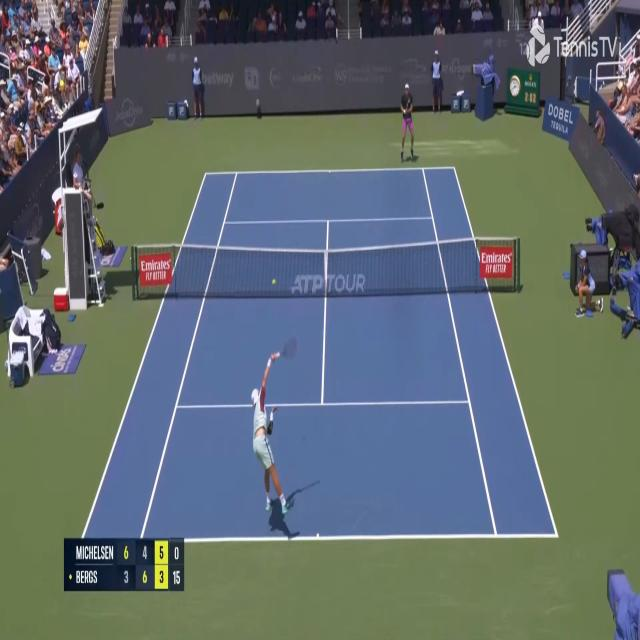tennis-player: (250, 343, 295, 525), (399, 80, 416, 162)
